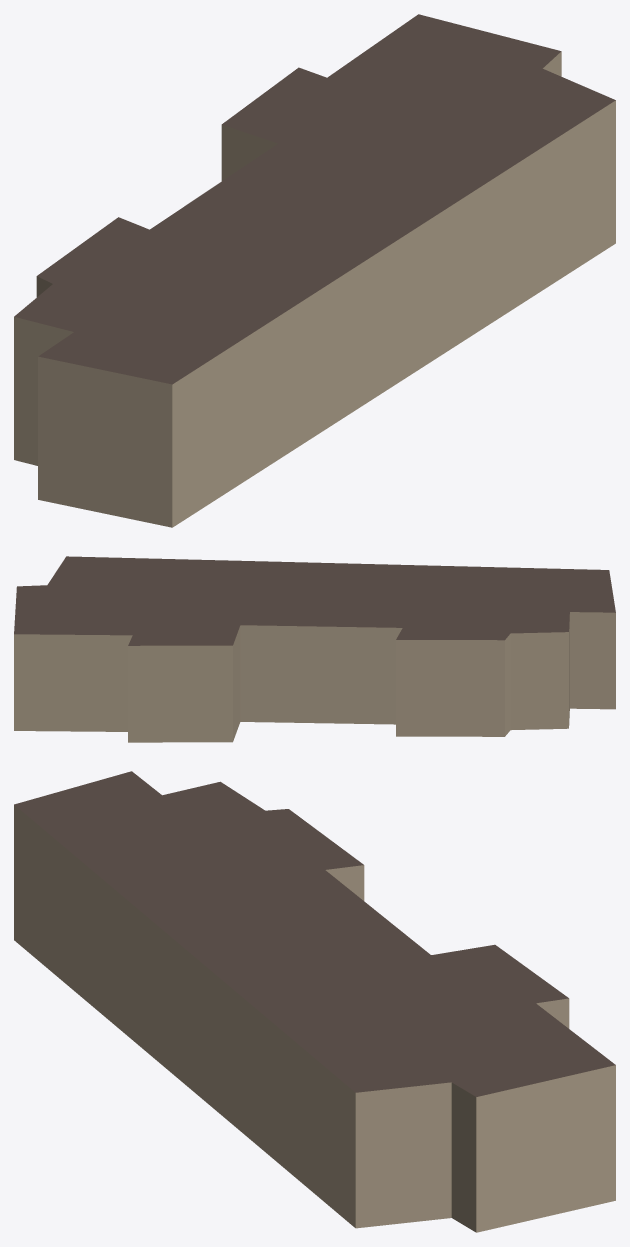
3 renders of one model, top to bottom at view 1: azimuth 30°, elevation 25°; view 2: azimuth 150°, elevation 25°; view 3: azimuth 270°, elevation 25°, orthographic. The views are drawn at different scales.
Visible parts, largest first — view 1: HP-w1512459922; view 2: HP-w1512459922; view 3: HP-w1512459922.
Boxes of the visible parts, box(x1,y1,x2,y2) form: HP-w1512459922: box(14, 14, 615, 527); HP-w1512459922: box(14, 556, 615, 742); HP-w1512459922: box(14, 771, 615, 1232).
Bounding box in the file's own units: 46.38 × 9 × 36.2.
